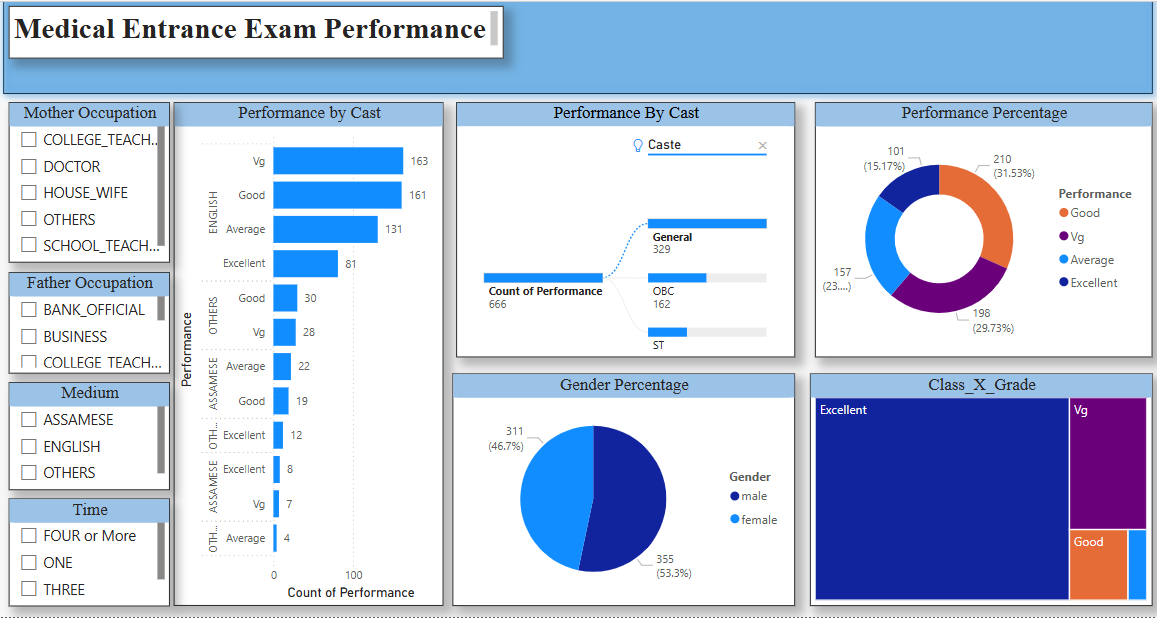

The page's visual inventory and layout, read from the dashboard file:
{"tool":"powerbi","page":{"name":"Page 1","canvas":[1280,720],"ordinal":0},"visuals":[{"type":"shape","box":[0,0,1280.3,155.1],"z":0},{"type":"textbox","box":[15.1,49.4,543.4,57.6],"z":1000},{"type":"donutChart","title":"Performance Percentage","fields":{"Category":["student_performance.Performance"],"Y":["CountNonNull(student_performance.Performance)"]},"box":[900.2,155.1,370.5,279.9],"z":2000},{"type":"clusteredBarChart","title":"Performance by Cast","fields":{"Category":["student_performance.medium","student_performance.Performance"],"Y":["CountNonNull(student_performance.Performance)"]},"box":[196.2,155.1,296.4,553],"z":4000},{"type":"pieChart","title":"Gender Percentage","fields":{"Category":["student_performance.Gender"],"Y":["CountNonNull(student_performance.Gender)"]},"box":[502.2,452.8,376,255.2],"z":5000},{"type":"slicer","title":"Mother Occupation","fields":{"Values":["student_performance.Mother_occupation"]},"box":[15.1,155.1,177,175.6],"z":6000},{"type":"slicer","title":"Father Occupation","fields":{"Values":["student_performance.Father_occupation"]},"box":[15.1,341.7,177,111.1],"z":7000},{"type":"slicer","title":"Medium","fields":{"Values":["student_performance.medium"]},"box":[15.1,462.4,177,118],"z":8000},{"type":"treemap","title":" Class_X_Grade","fields":{"Group":["student_performance.Class_X_Grade"],"Values":["CountNonNull(student_performance.Class_X_Grade)"]},"box":[894.7,452.8,376,255.2],"z":9000},{"type":"slicer","title":"Time","fields":{"Values":["student_performance.time"]},"box":[15.1,590.1,177,118],"z":9001},{"type":"decompositionTreeVisual","title":"Performance By Cast","fields":{"Analyze":["CountNonNull(student_performance.Performance)"],"ExplainBy":["student_performance.Caste"]},"box":[506.3,155.1,371.9,279.9],"z":9002}]}

Visuals, with their boxes in screenshot pixels (x1, y1, x2, y2):
shape: crop(0, 0, 1155, 99)
textbox: crop(5, 3, 499, 55)
"Performance Percentage" donutChart: crop(810, 99, 1146, 353)
"Performance by Cast" clusteredBarChart: crop(169, 99, 439, 602)
"Gender Percentage" pieChart: crop(448, 370, 790, 602)
"Mother Occupation" slicer: crop(5, 99, 166, 259)
"Father Occupation" slicer: crop(5, 269, 166, 370)
"Medium" slicer: crop(5, 378, 166, 486)
" Class_X_Grade" treemap: crop(805, 370, 1146, 602)
"Time" slicer: crop(5, 494, 166, 602)
"Performance By Cast" decompositionTreeVisual: crop(451, 99, 790, 353)
